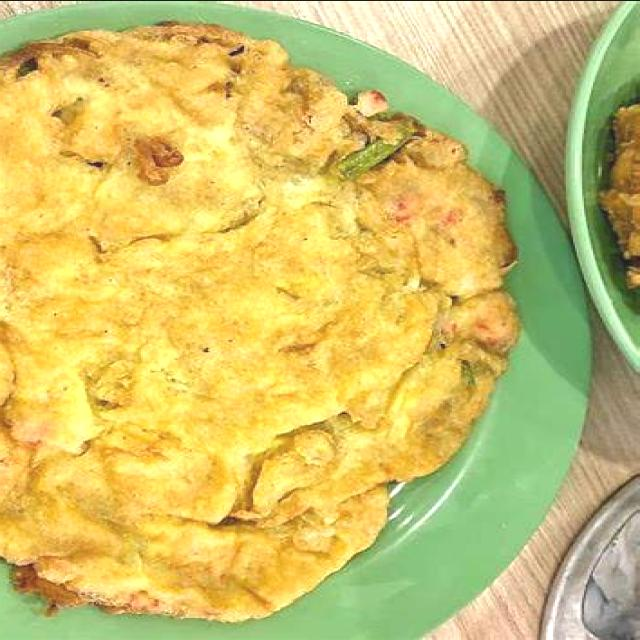telur dadar: (0, 18, 522, 626)
